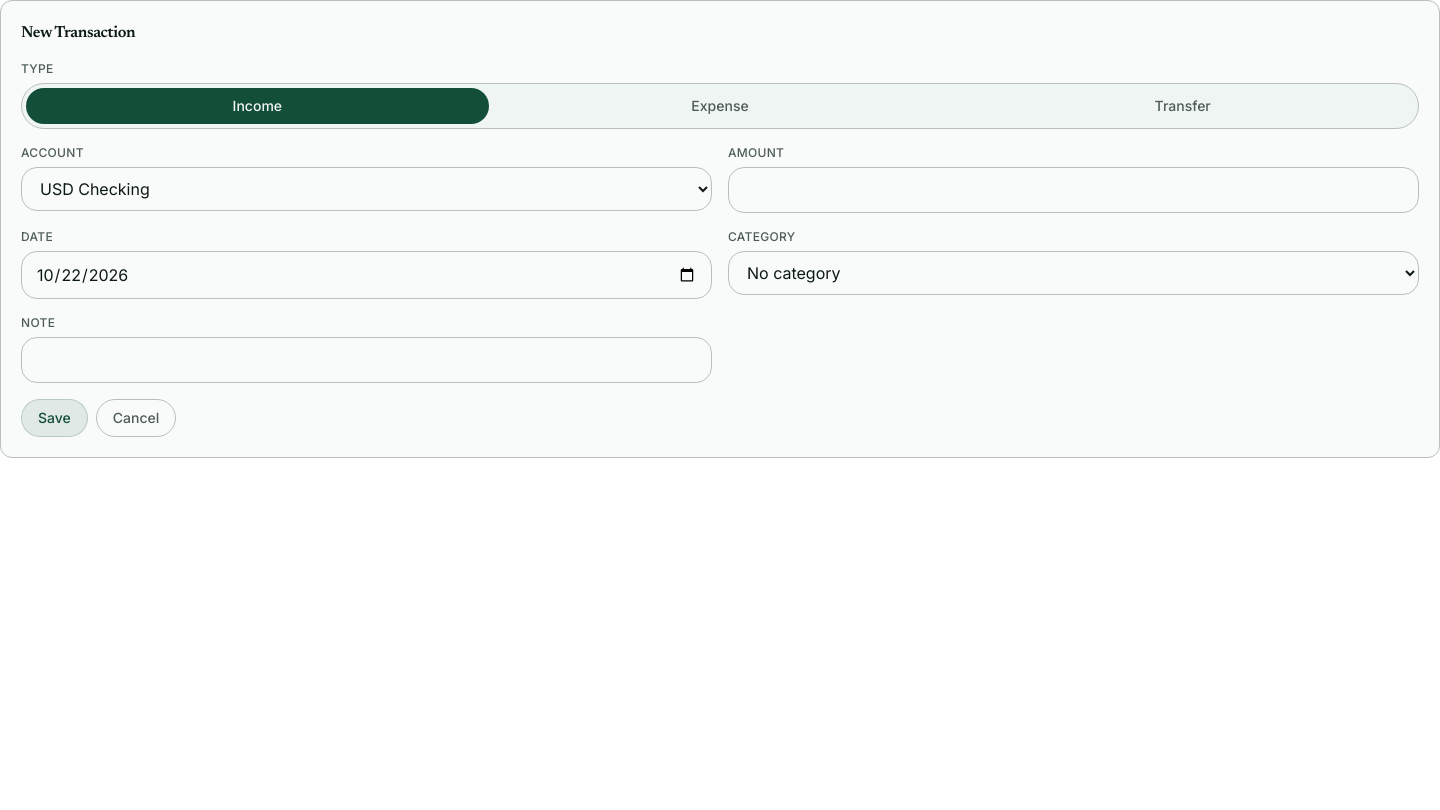
Test: Transaction type segmented control › switches to Transfer mode and re-filters categories in one click
The width and height of the screenshot is (1440, 810).
What coordinates should you click on to do the following:
click the radio button labelled "Expense"
I would click on:
 (720, 106)
Its box is [489,88,951,124].
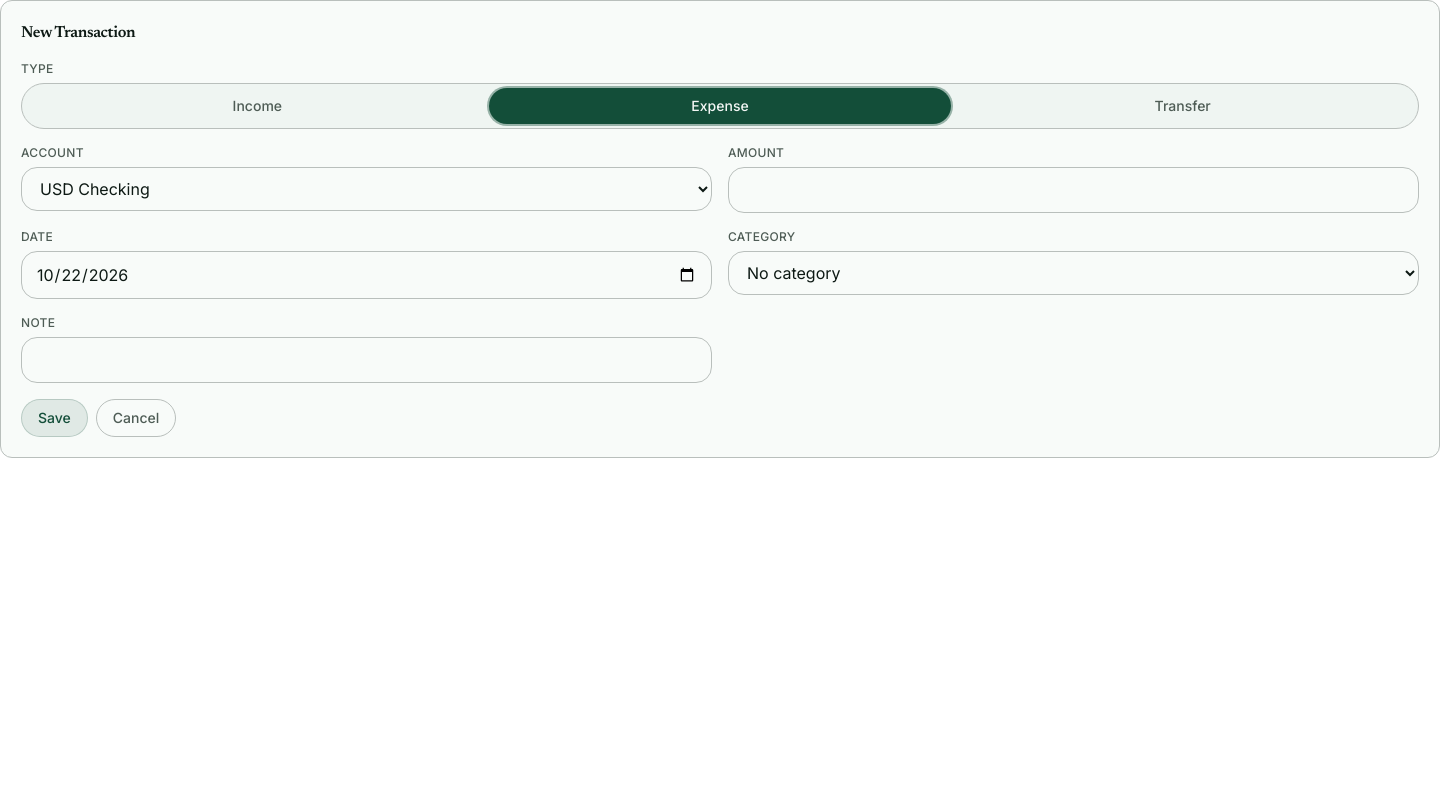
Result: the radio button labelled "Expense" is checked at [489,88,951,124]
What coordinates should you click on to do the following:
click the radio button labelled "Transfer"
I would click on:
 (1183, 106)
Its box is [951,88,1414,124].
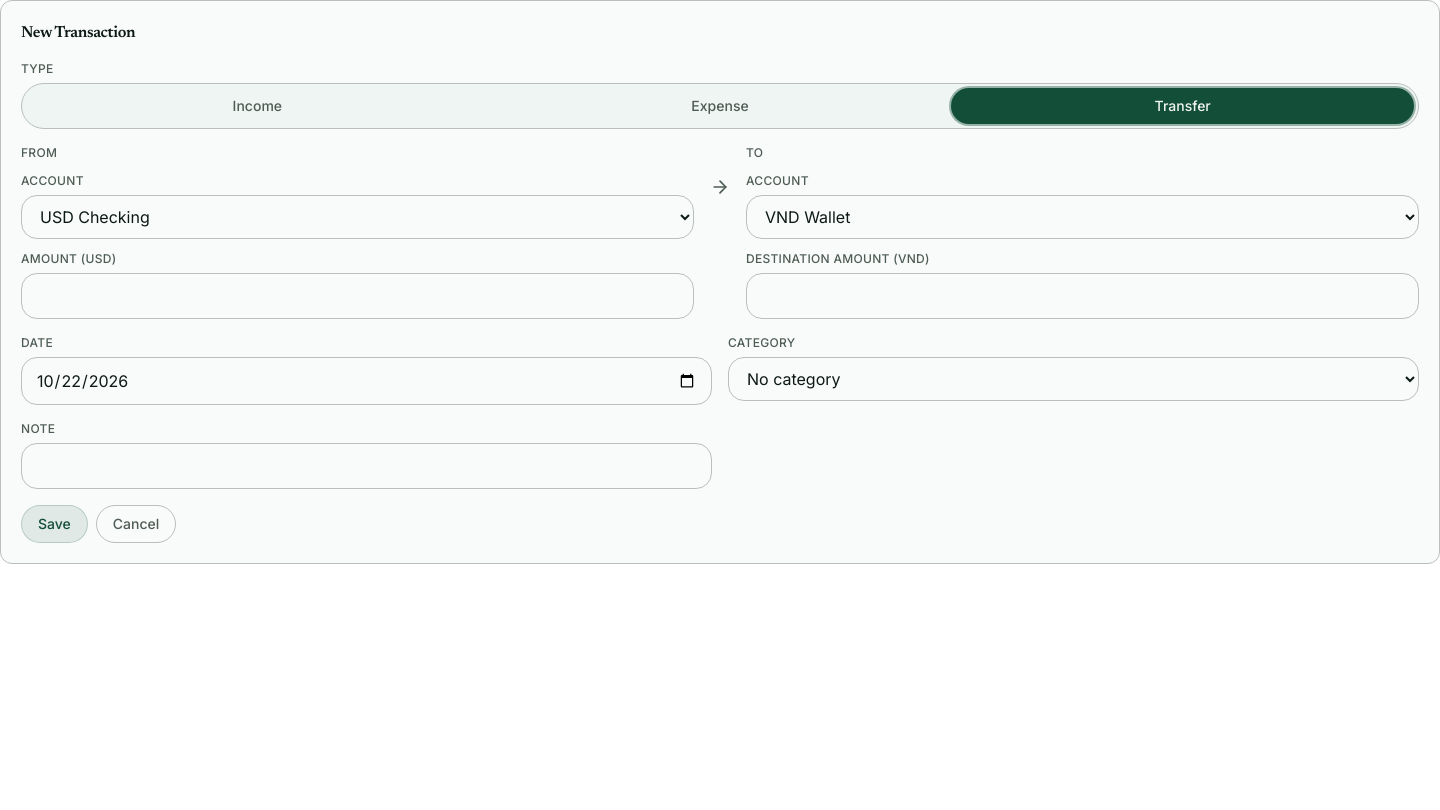
Result: the text "From" is shown at [21,145,57,160]
Result: the text "To" is shown at [746,145,763,160]
